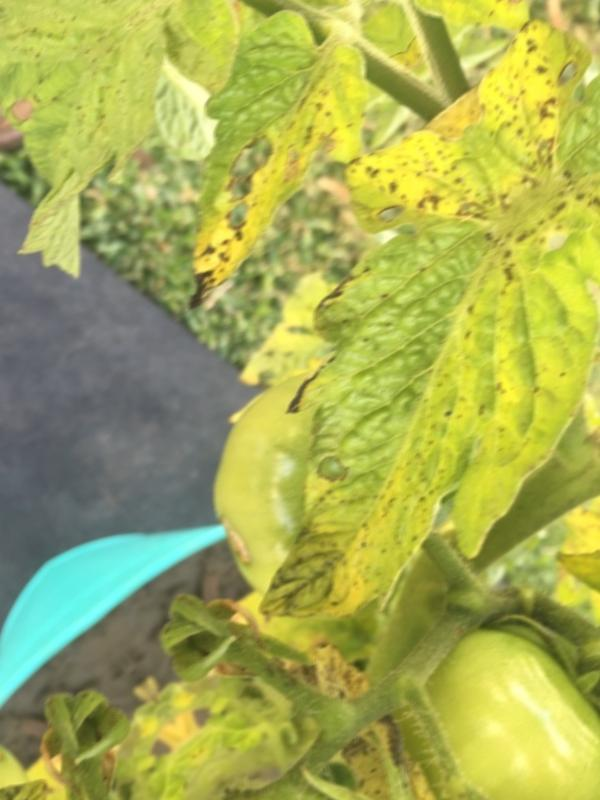Tomato Septoria leaf spot: (81, 100, 600, 676)
